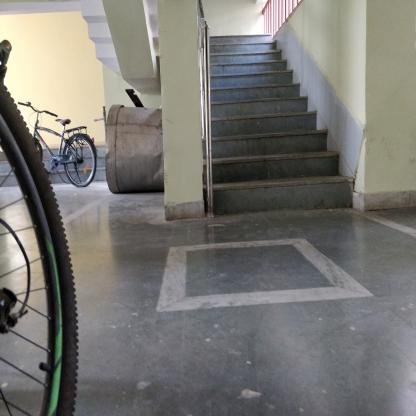stairs: (216, 32, 272, 222)
